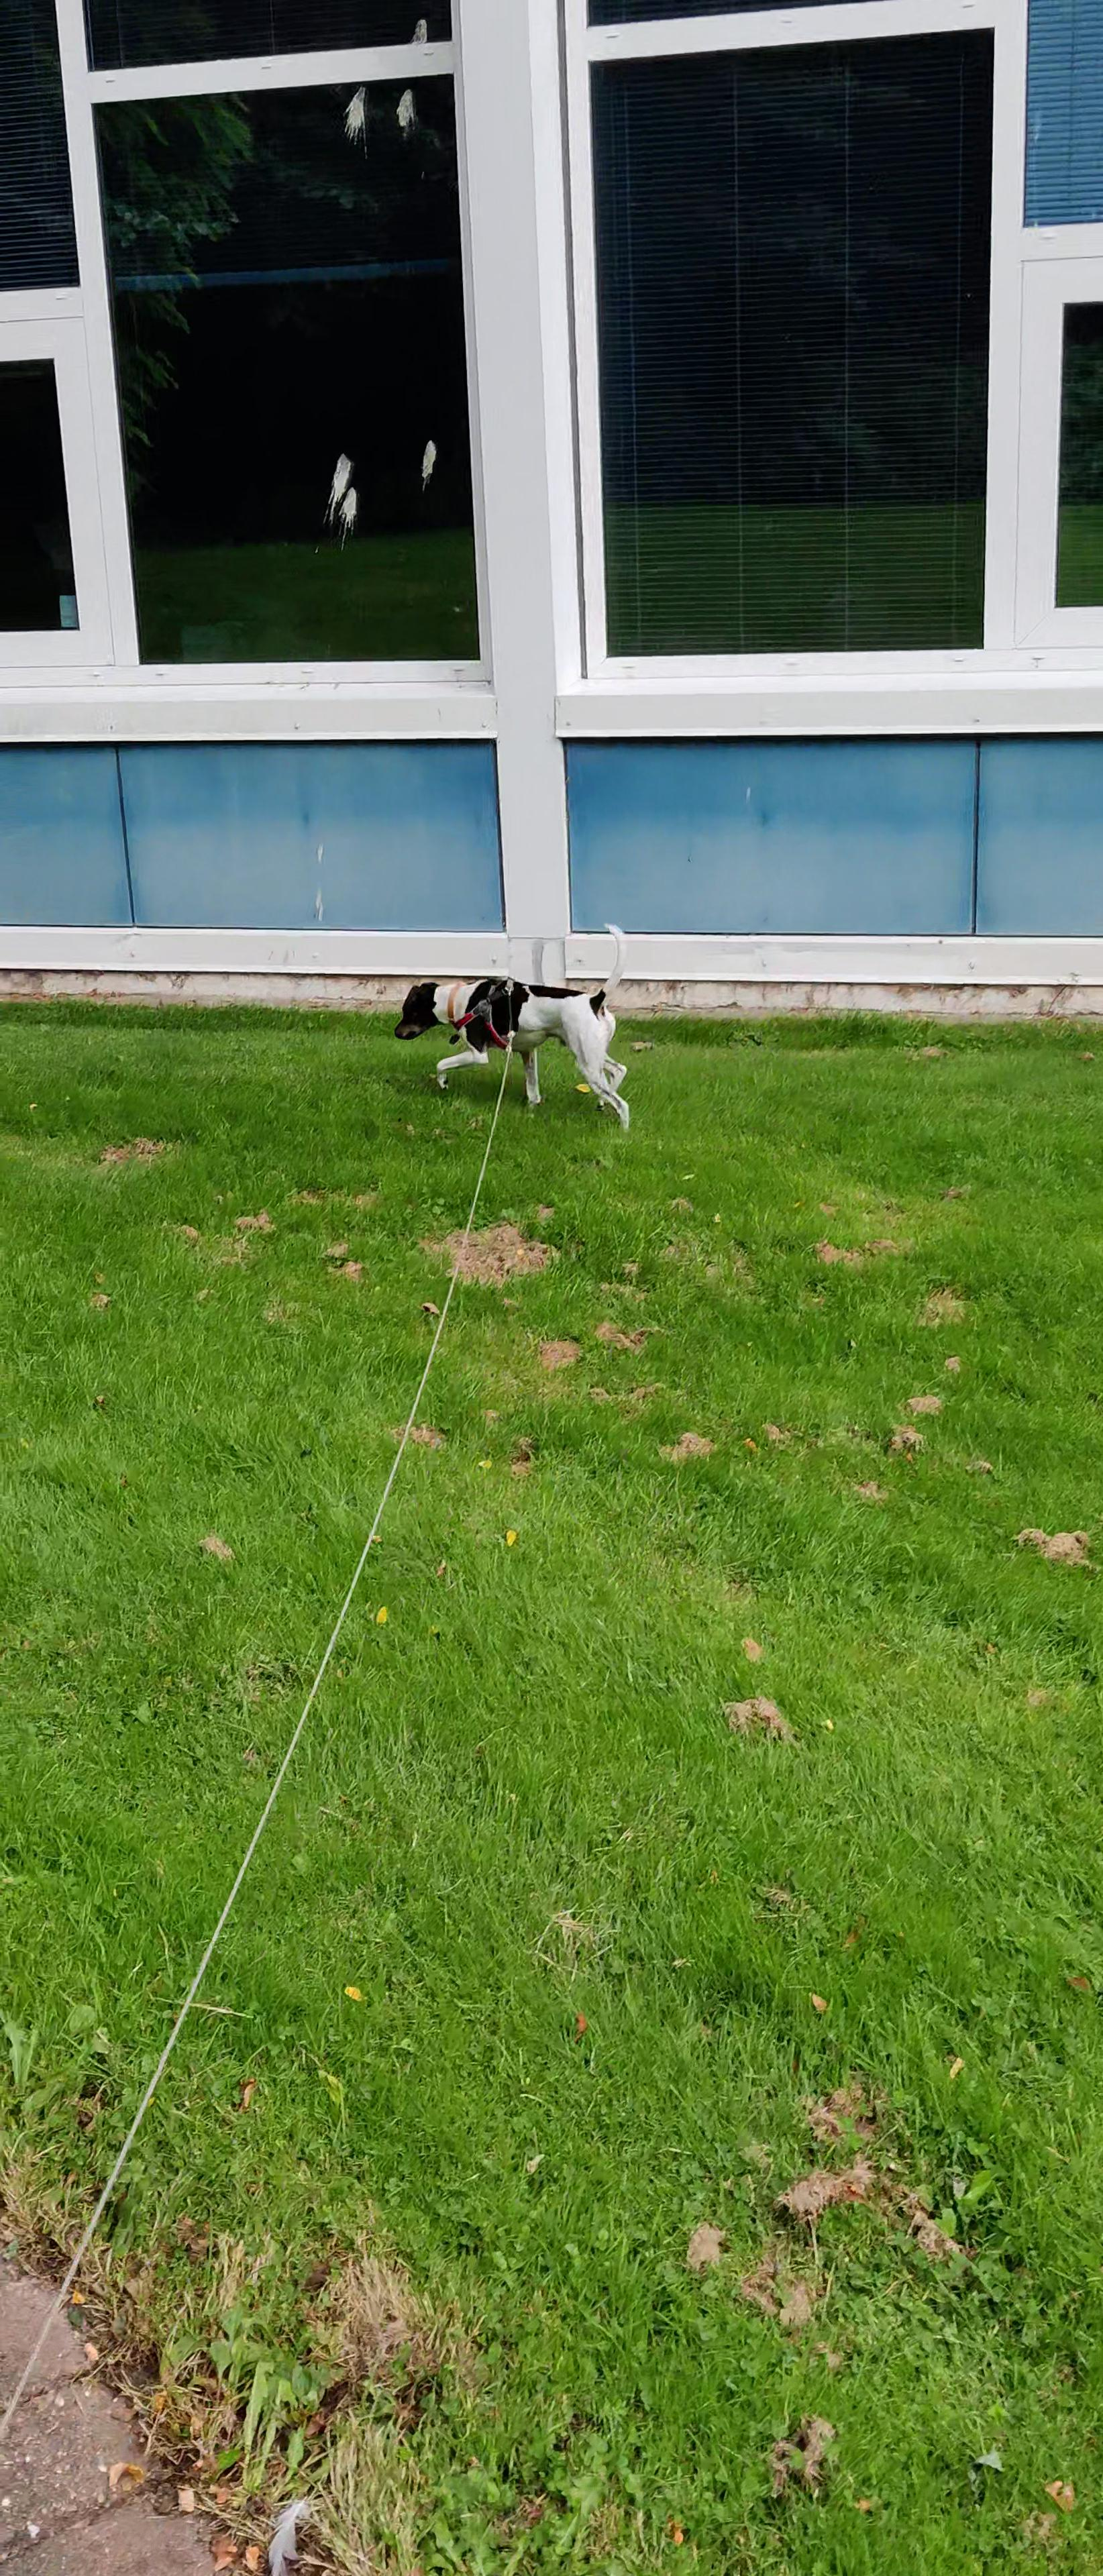Dog: (386, 910, 643, 1137)
